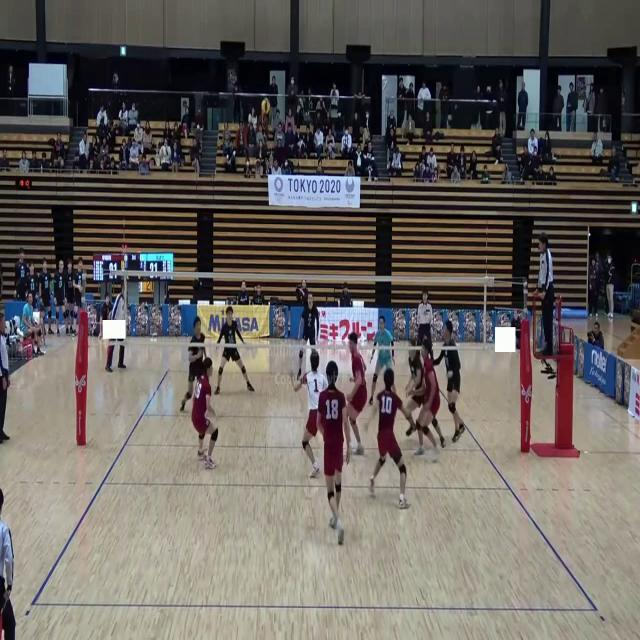volleyball: (262, 98, 270, 114)
